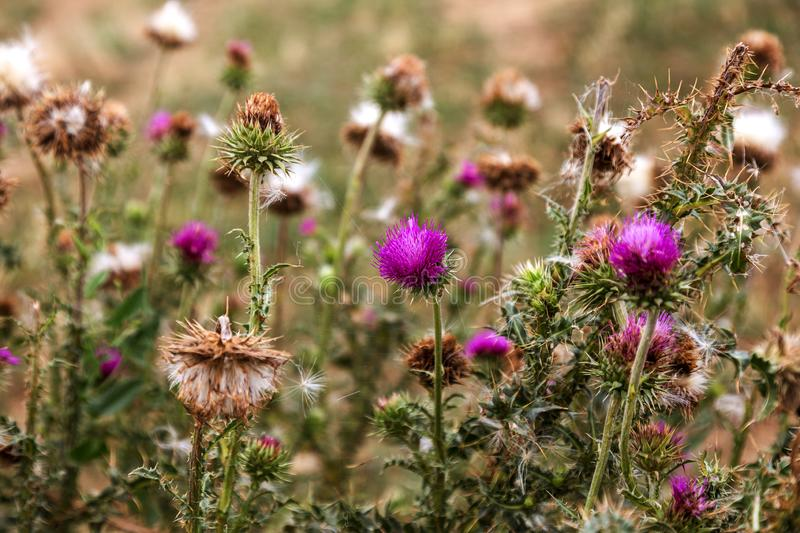thistle: (605, 213, 708, 324), (371, 216, 460, 307), (159, 224, 219, 292), (461, 327, 515, 383), (668, 475, 711, 532)
